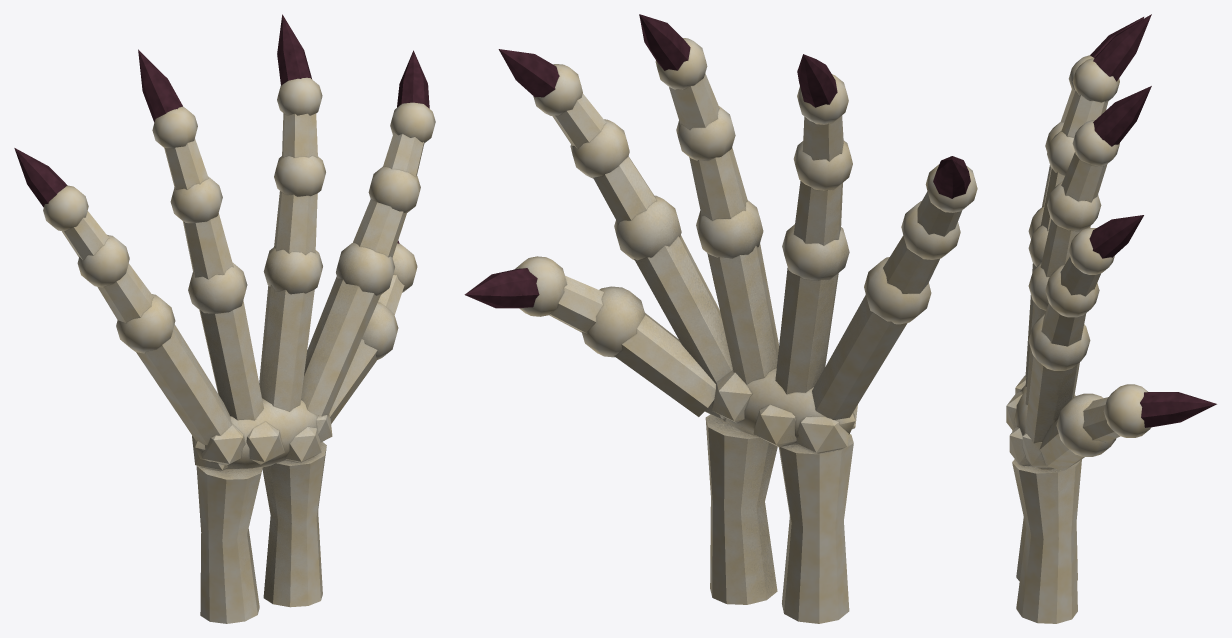
File: boss_hand.fbx
The picture shows the model from 3 angles, left to right: view 1: azimuth 30°, elevation 25°; view 2: azimuth 150°, elevation 25°; view 3: azimuth 270°, elevation 25°; orthographic projection. The views are drawn at different scales.
Visible parts, largest first — view 1: boss_hand; view 2: boss_hand; view 3: boss_hand.
Part boxes in pixels (<box>): boss_hand: <box>14,14,435,623</box>; boss_hand: <box>464,14,977,623</box>; boss_hand: <box>1006,14,1216,623</box>.
Bounding box in the file's own units: 1247 × 1600 × 560.
Materials: 1 (1 with a texture image).
